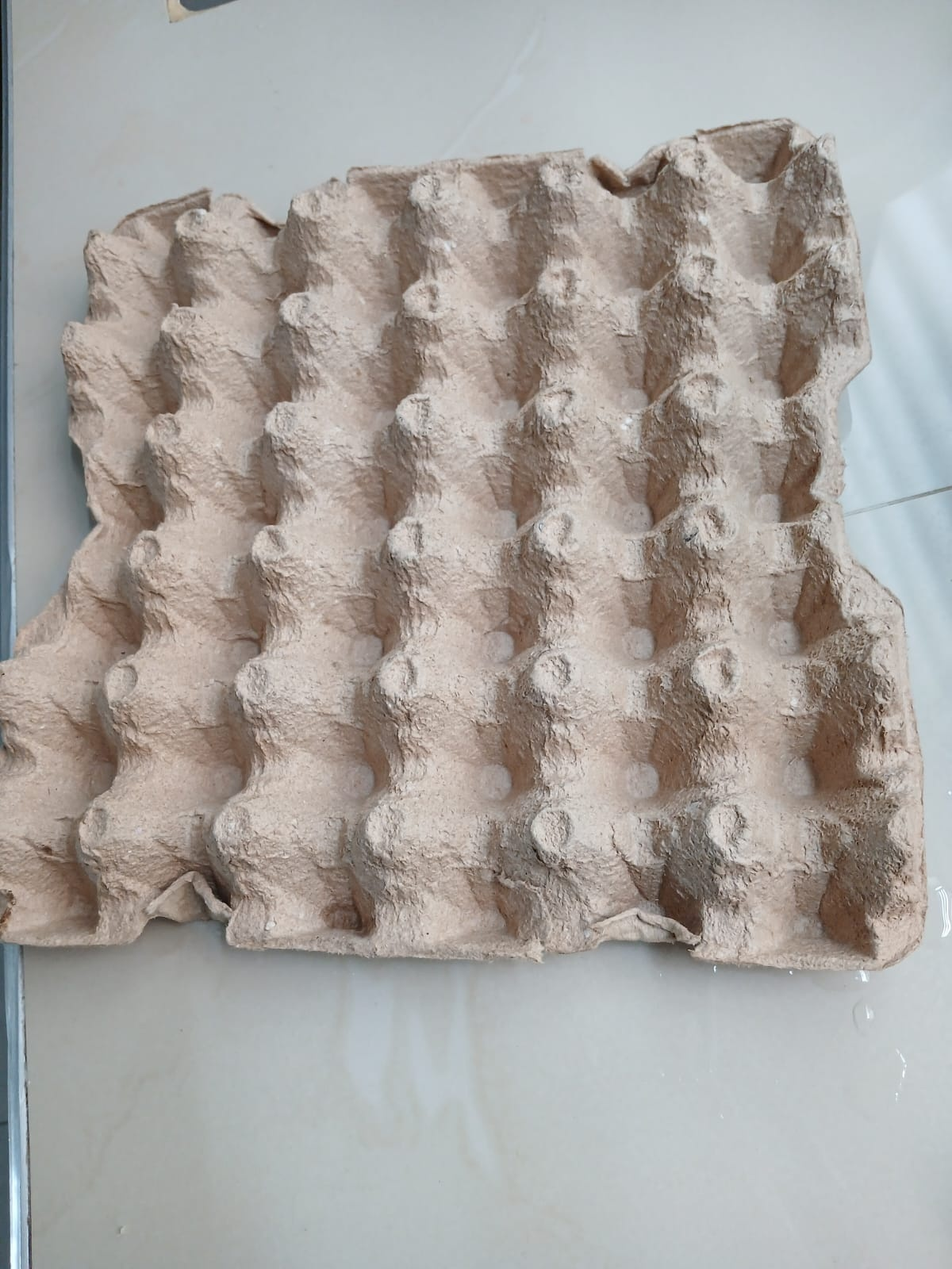Carton: (0, 119, 926, 950)
